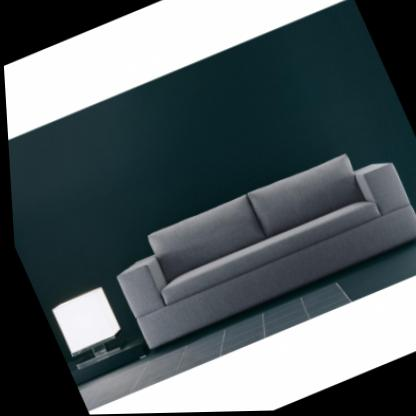Sofa: (94, 136, 416, 353)
